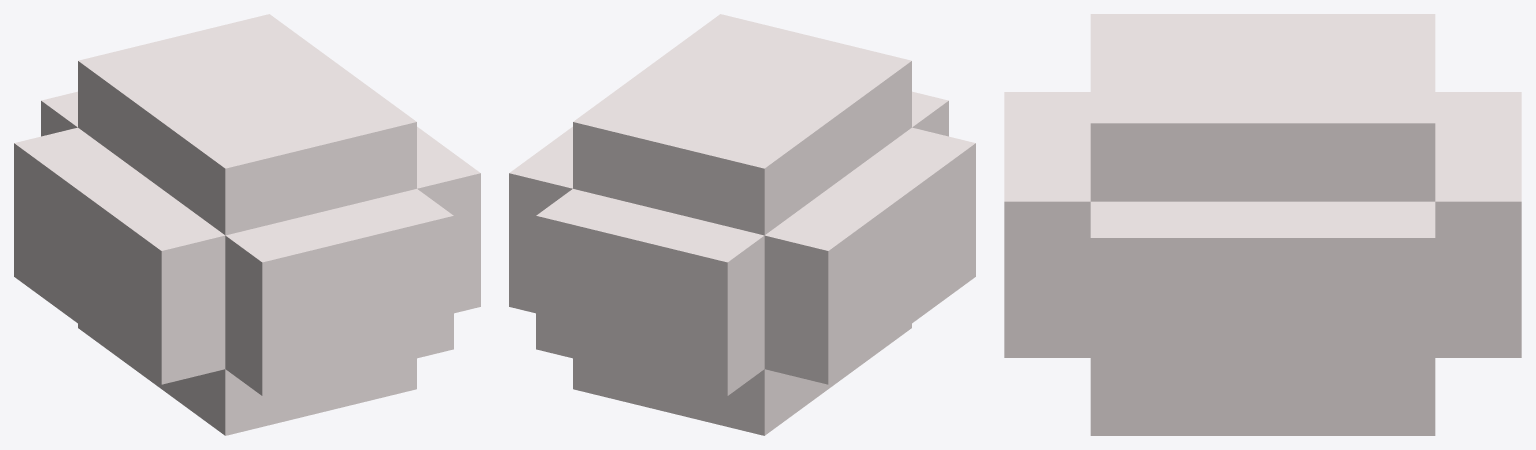
3 renders of one model, left to right at view 1: azimuth 30°, elevation 25°; view 2: azimuth 150°, elevation 25°; view 3: azimuth 270°, elevation 25°, orthographic. The views are drawn at different scales.
Parts seen in each view (by area): view 1: 90.1; view 2: 90.1; view 3: 90.1.
Part boxes in pixels (box(x1,y1,x2,y2)): 90.1: box(14, 14, 480, 435); 90.1: box(509, 14, 975, 435); 90.1: box(1004, 14, 1521, 435).
Size of the model in its own units: 50 by 40 by 60.
1 material, 1 textured.
